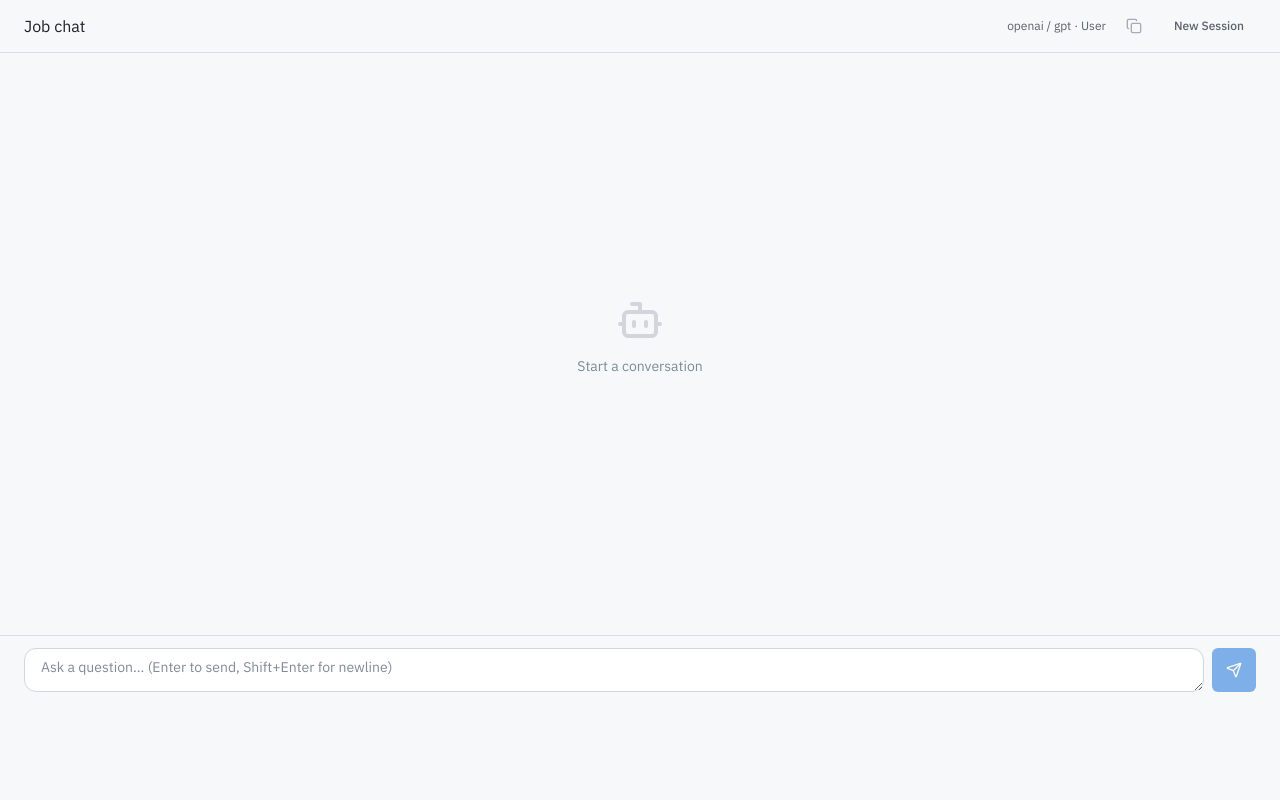
does not clear a session if delete fails
Step 1. Click the button "New Session" → click(1209, 26), box [1162,12,1256,40]
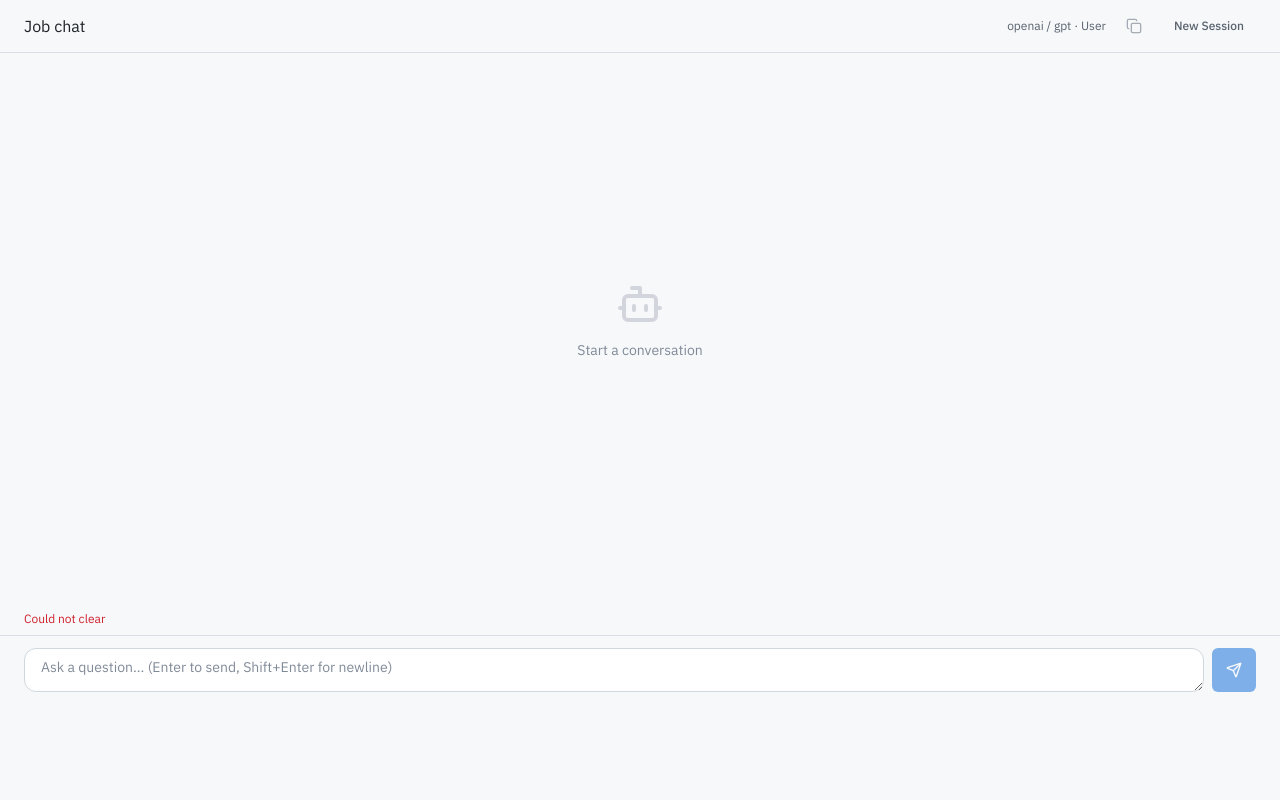
Expected: the text box with placeholder "Ask a question... (Enter to send, Shift+Enter for newline)" is enabled, [24,648,1204,692]
Expected: the message reads "Could not clear", [24,611,105,626]
